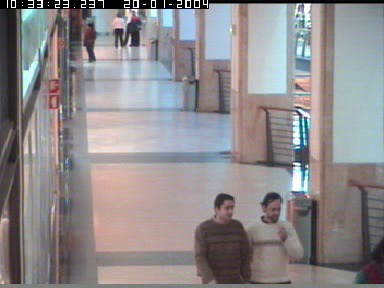person: (241, 192, 303, 284), (193, 193, 251, 284), (352, 237, 384, 284), (126, 11, 143, 47), (83, 23, 96, 63), (112, 10, 123, 47)
